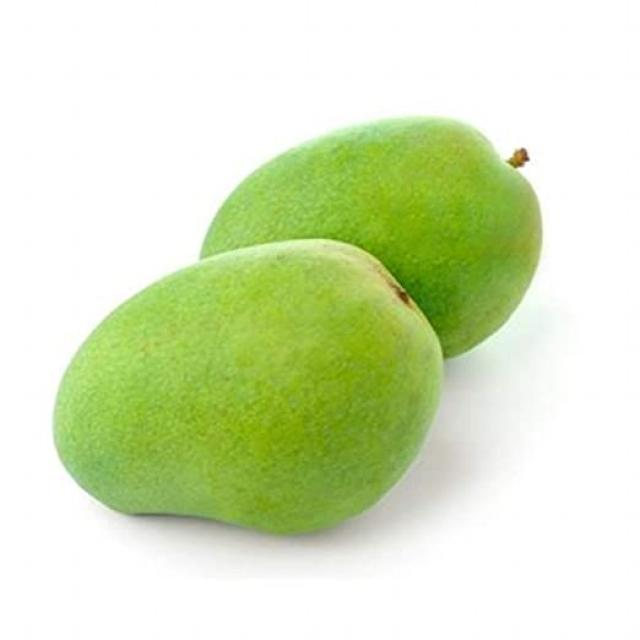raw-image: (37, 240, 460, 538), (232, 96, 569, 358)
